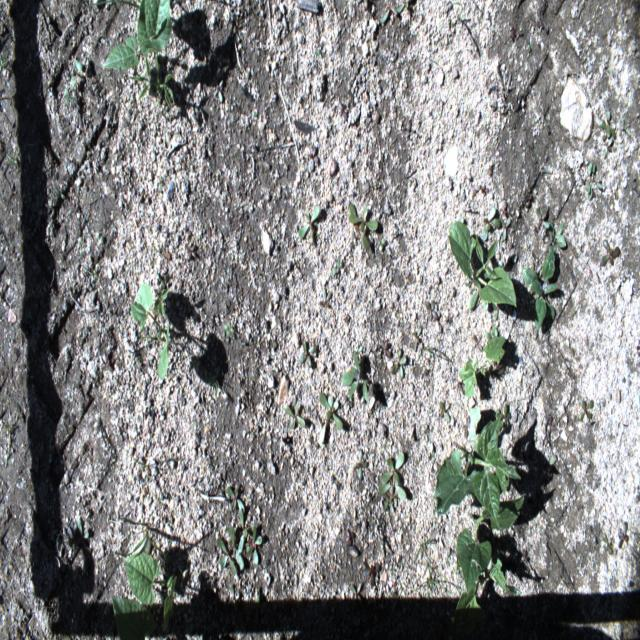crop: (434, 406, 522, 528), (454, 496, 524, 628), (101, 0, 175, 114), (111, 554, 177, 638), (450, 222, 516, 306), (128, 281, 170, 380), (458, 334, 506, 398)
weed: (521, 246, 557, 330), (109, 518, 167, 567), (378, 450, 407, 514), (0, 394, 23, 468), (340, 351, 369, 404), (348, 203, 378, 254), (132, 456, 160, 507), (238, 508, 262, 567), (216, 526, 245, 574), (319, 393, 343, 444), (409, 576, 454, 600), (580, 160, 602, 200), (67, 517, 91, 553), (415, 537, 436, 578), (298, 205, 320, 239), (482, 208, 503, 240), (468, 278, 489, 310), (80, 1, 140, 12), (225, 486, 245, 516), (283, 403, 305, 430), (548, 220, 566, 250), (391, 346, 407, 378), (602, 239, 620, 266), (380, 2, 404, 22), (600, 111, 616, 140), (494, 400, 511, 427), (300, 340, 316, 368), (205, 365, 220, 394), (354, 449, 367, 481), (536, 206, 550, 232), (424, 299, 440, 321), (70, 58, 83, 85), (617, 521, 629, 550), (225, 585, 237, 613), (350, 582, 363, 607), (579, 399, 593, 422), (499, 216, 511, 242), (318, 289, 332, 309), (412, 325, 422, 353), (223, 320, 235, 343), (64, 87, 76, 110), (492, 303, 506, 322), (602, 532, 613, 555), (439, 402, 450, 422), (380, 339, 391, 358), (603, 137, 612, 160), (0, 51, 9, 73), (484, 327, 498, 340), (332, 258, 340, 277), (378, 236, 386, 253), (265, 577, 271, 599), (424, 423, 428, 440)
